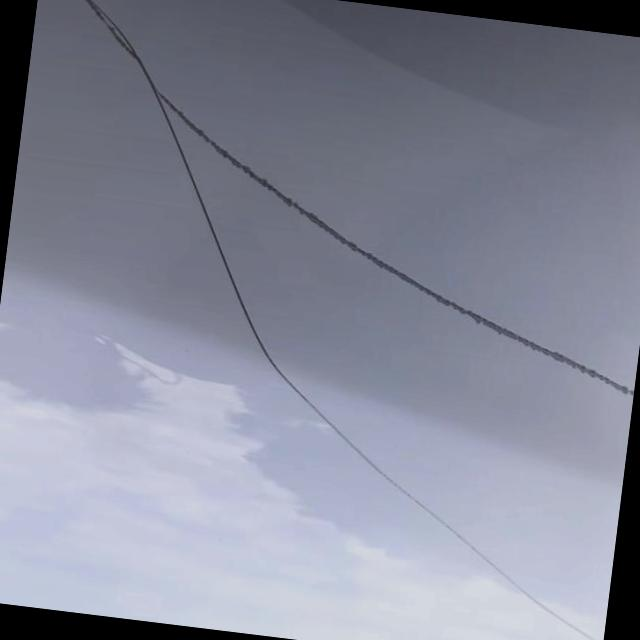crack: (190, 248, 453, 640), (212, 202, 612, 414)
